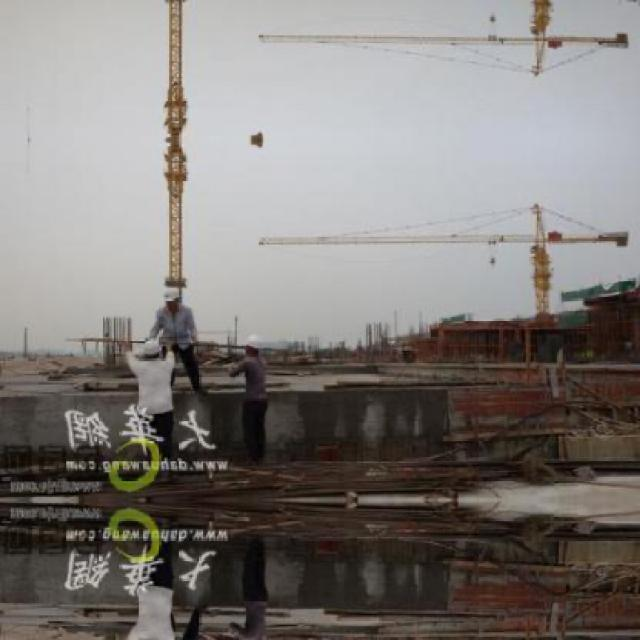helmet: (140, 334, 166, 360), (242, 332, 266, 358), (162, 283, 183, 311)
